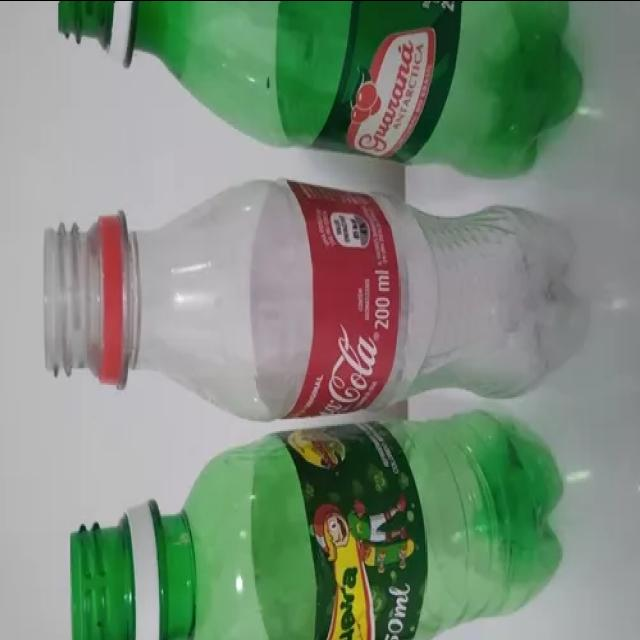bottom: (419, 205, 586, 397), (413, 2, 580, 176), (450, 410, 561, 620)
label: (280, 422, 426, 640), (287, 180, 400, 416), (314, 2, 461, 161)
neck: (46, 180, 312, 416), (71, 436, 280, 639), (59, 2, 291, 145)
